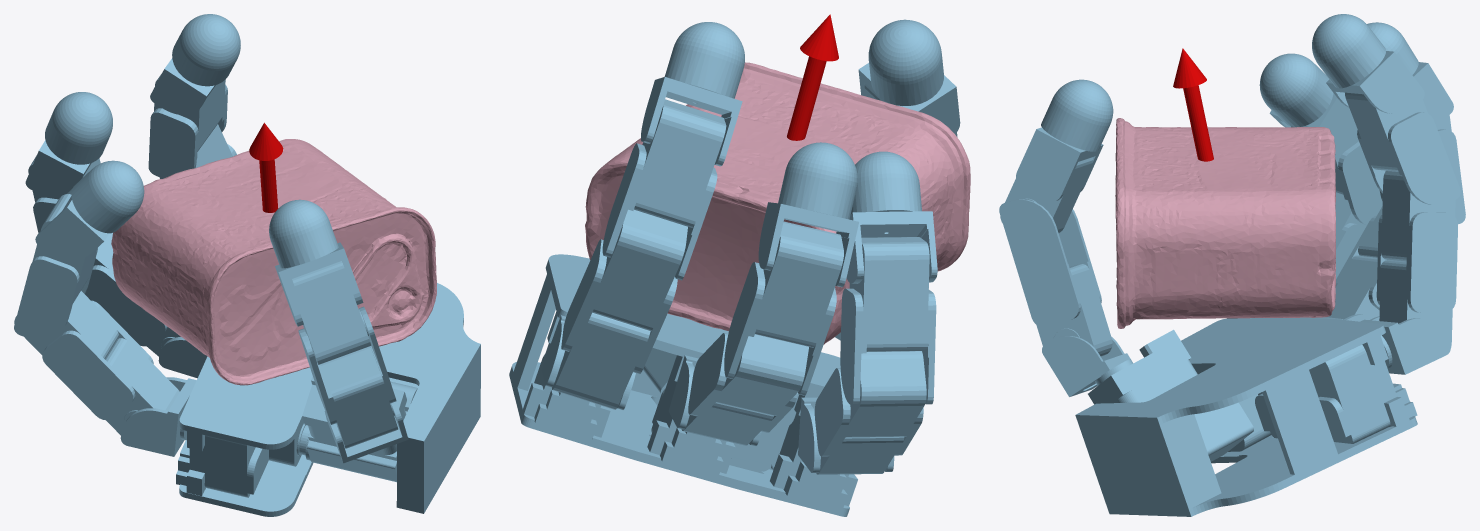
3 views of the same model, side by side, from view 1: azimuth 30°, elevation 25°; view 2: azimuth 150°, elevation 25°; view 3: azimuth 270°, elevation 25° (orthographic). The views are drawn at different scales.
Parts seen in each view (by area): view 1: world, potted_meat_can.stl; view 2: world, potted_meat_can.stl; view 3: world, potted_meat_can.stl.
Part boxes in pixels (box(x1,y1,x2,y2)): world: box(14, 14, 480, 516); potted_meat_can.stl: box(111, 139, 436, 385); world: box(509, 14, 960, 516); potted_meat_can.stl: box(585, 62, 970, 344); world: box(999, 14, 1465, 516); potted_meat_can.stl: box(1115, 118, 1335, 328).
Bounding box in the file's own units: 0.1777 × 0.1874 × 0.1767.
